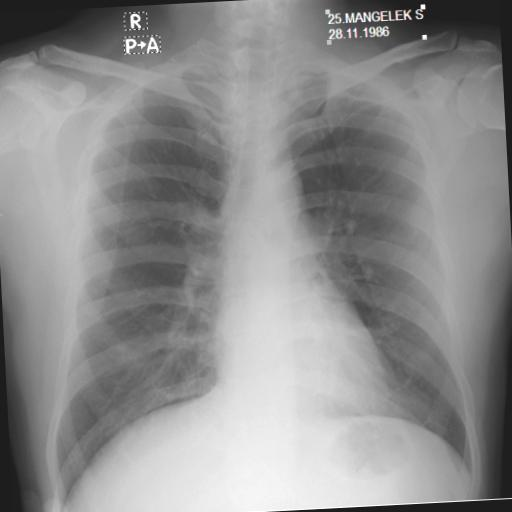normal: (22, 16, 486, 512)
